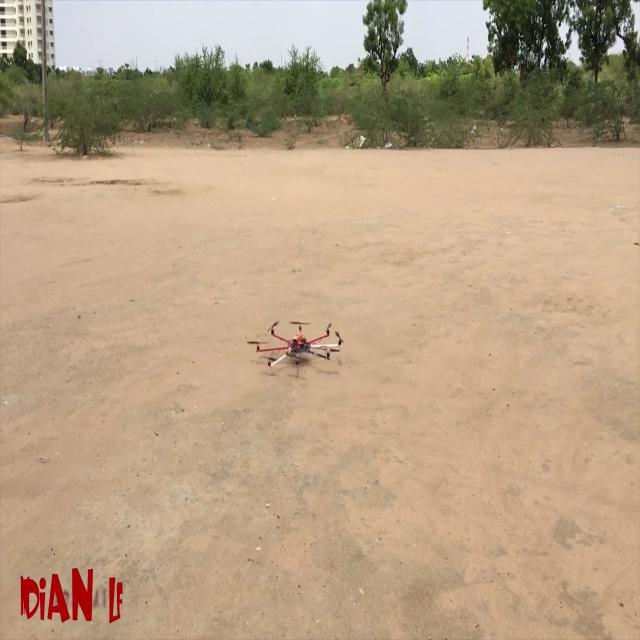drone: (245, 290, 352, 394)
